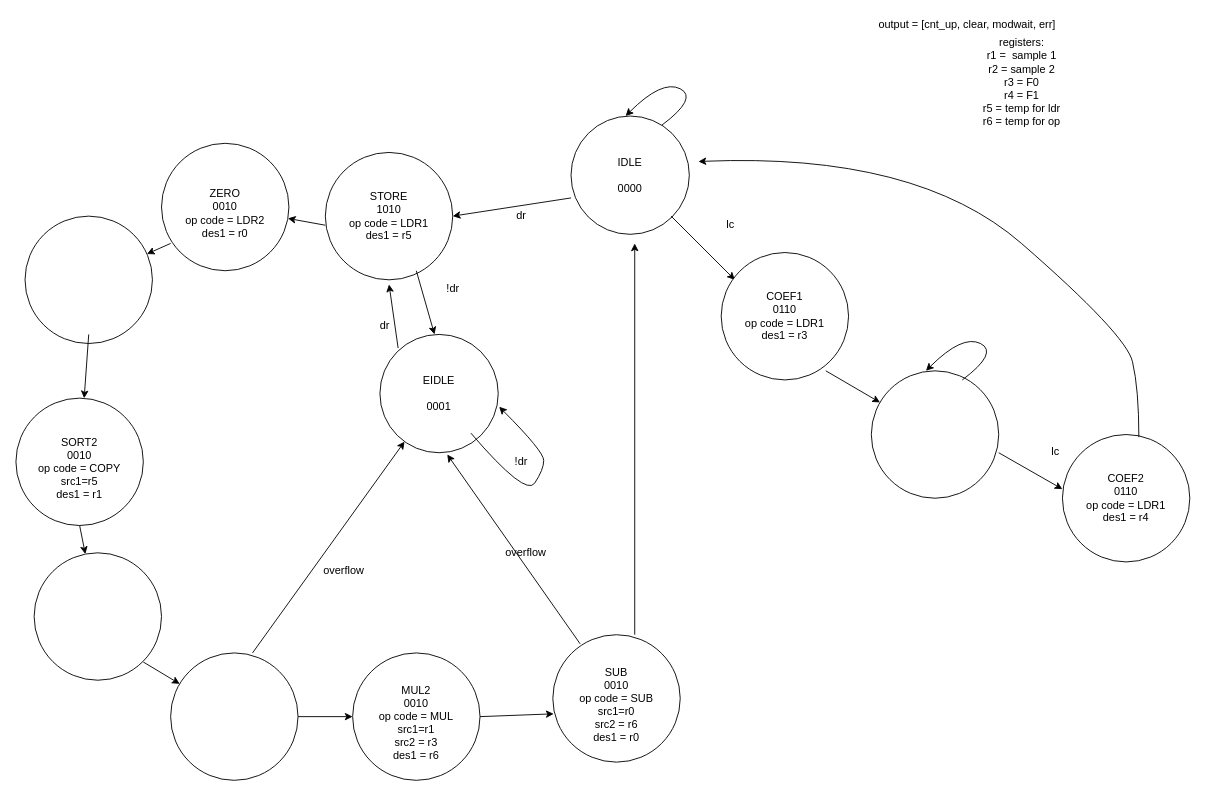
This 1206x796 diagram has some shape labels left out. The shapes that lost their labels are listed below. From the top down, each one's centre as x and y in pixels, then its label:
At [88,279]: "SORT1 0010 op code = COPY src1=r1 des1 = r2".
At [934,434]: "COEF1_WAIT 0000".
At [97,616]: "MUL1 0010 op code = MUL src1=r2 src2 = r4 des1 = r6".
At [234,716]: "ADD 0010 op code = ADD src1=r0 src2 = r6 des1 = r0".
